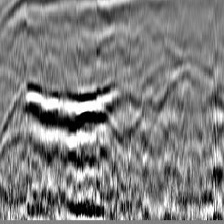cavities: (26, 76, 118, 219)
